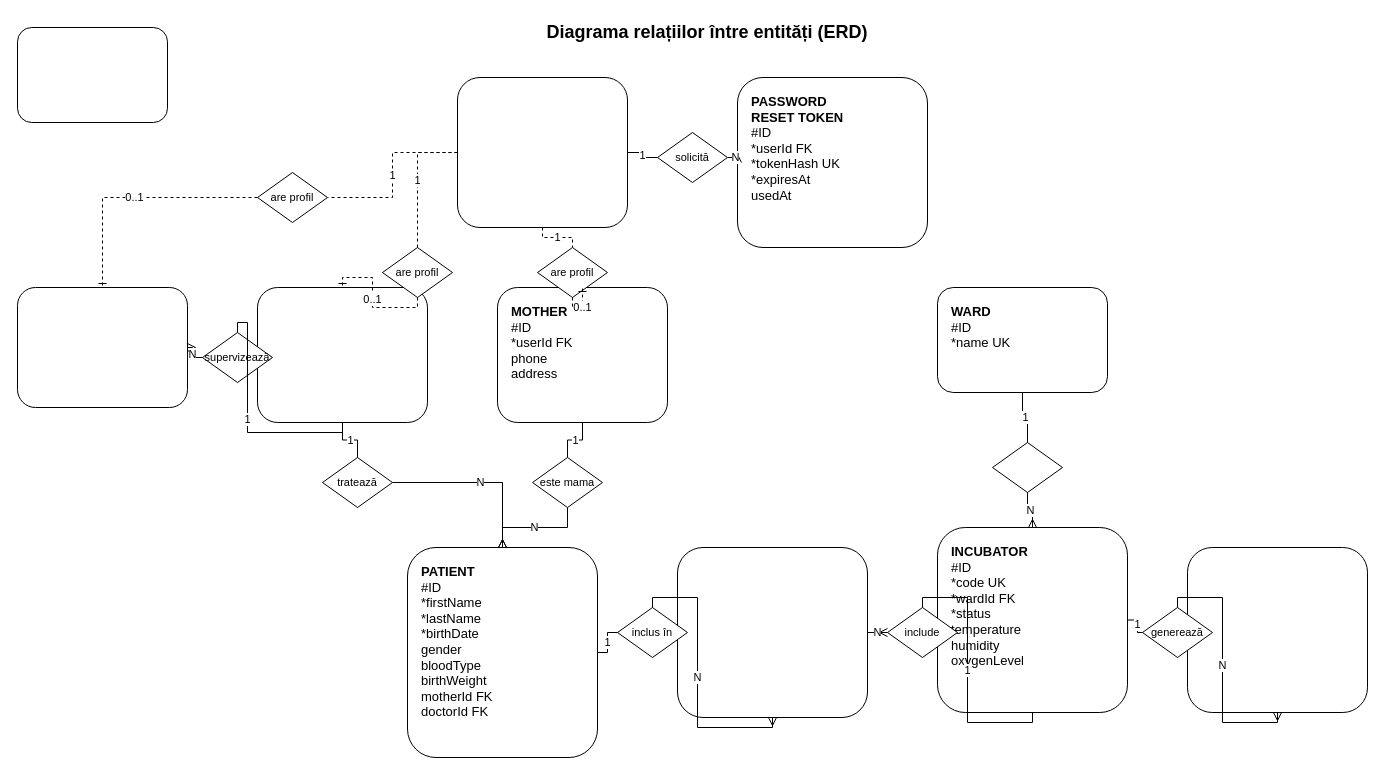
Image size: 1385x775. Some labels were removed from this diagram. Each missing label, with the box of its shape:
# cheie primară * atribut obligatoriu FK cheie externă UK unic: (16, 26, 168, 122)
ADMISSION #ID *patientId FK *incubatorId FK *admittedAt dischargedAt notes: (676, 546, 868, 718)
ALERT #ID *incubatorId FK *message *type *priority *resolved: (1186, 546, 1368, 712)
ASSISTANT #ID *userId FK doctorId FK: (16, 286, 188, 408)
conține: (992, 442, 1062, 492)
DOCTOR #ID *userId FK specialty licenseNumber UK: (256, 286, 428, 422)
USER #ID *name *email UK *password *role: (456, 76, 628, 228)
